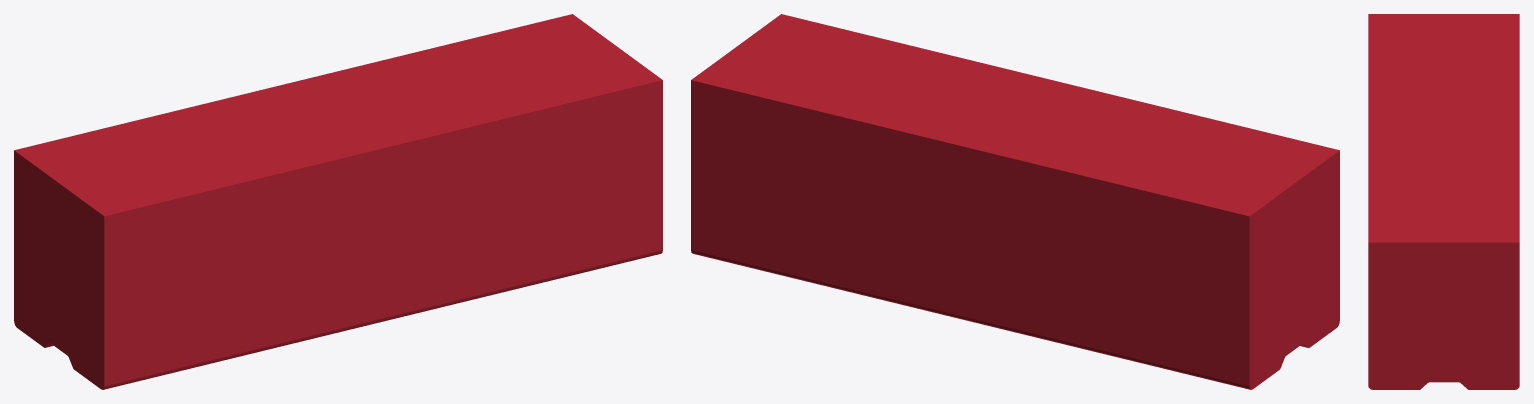
The picture shows the model from 3 angles, left to right: view 1: azimuth 30°, elevation 25°; view 2: azimuth 150°, elevation 25°; view 3: azimuth 270°, elevation 25°; orthographic projection. The views are drawn at different scales.
Parts seen in each view (by area): view 1: base_link; view 2: base_link; view 3: base_link.
Boxes of the visible parts, bbox=[...] form: base_link: bbox=[14, 14, 662, 389]; base_link: bbox=[691, 14, 1339, 389]; base_link: bbox=[1368, 14, 1519, 389].
Size of the model in its own units: 1.1 by 0.308 by 0.33.
